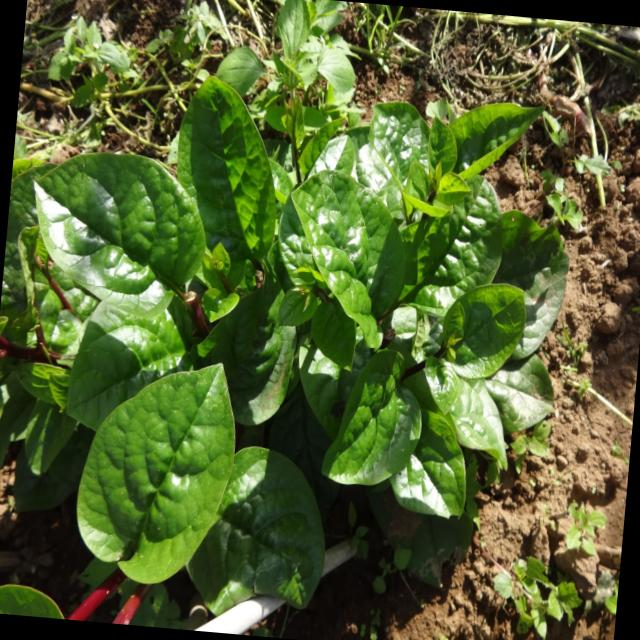Medicinal-Basale: (0, 36, 587, 598)
